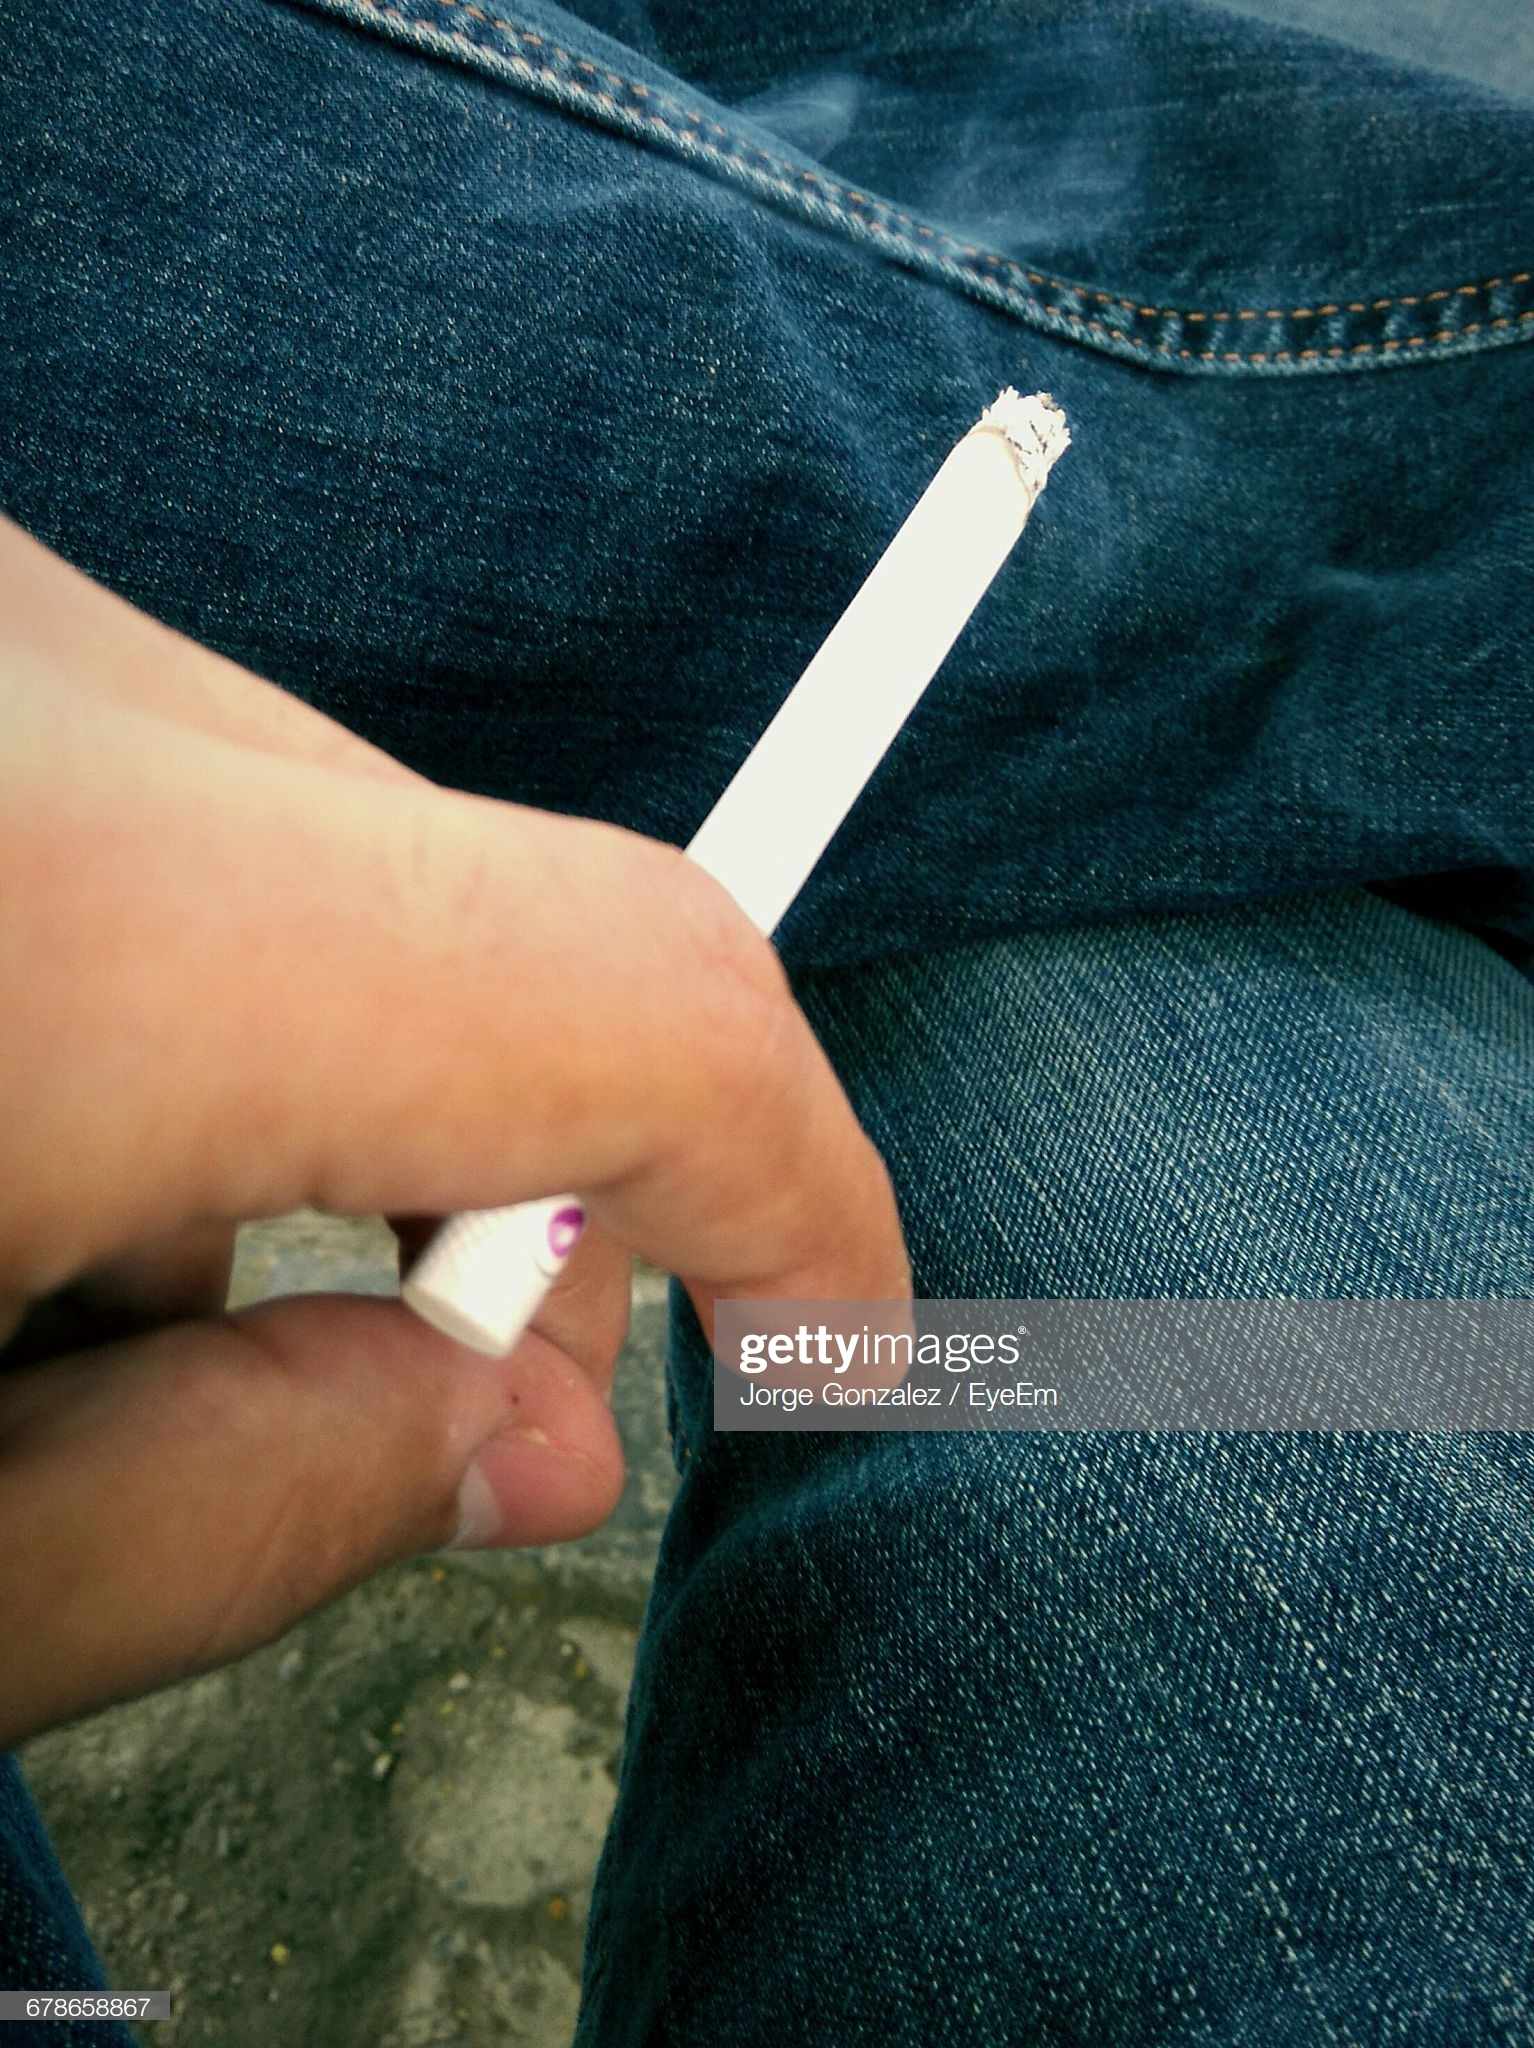sigaretta: (450, 372, 1084, 1323)
